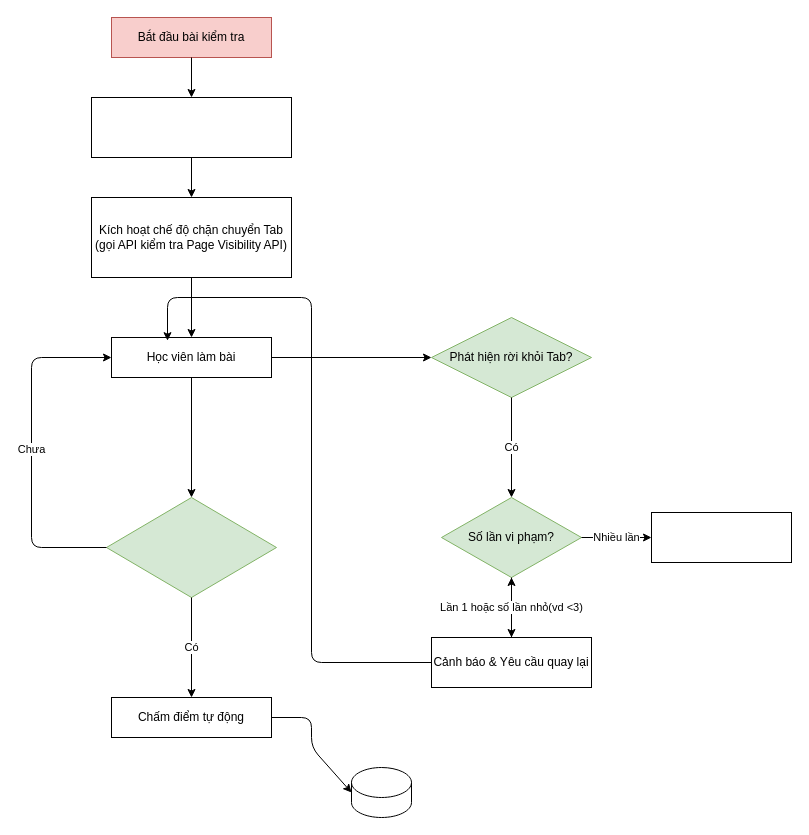
The diagram is 809 pixels wide and 835 high, and some of its shapes have lost their labels. Each missing label, with the box of its shape:
Kho điểm: (350, 766, 412, 818)
Nộp bài hoặc hết giờ?: (106, 496, 276, 598)
Tải câu hỏi từ ngân hàng đề (lấy từ dtb đề): (90, 96, 292, 158)
Tự động nộp bài Hủy kết quả: (650, 512, 792, 562)
